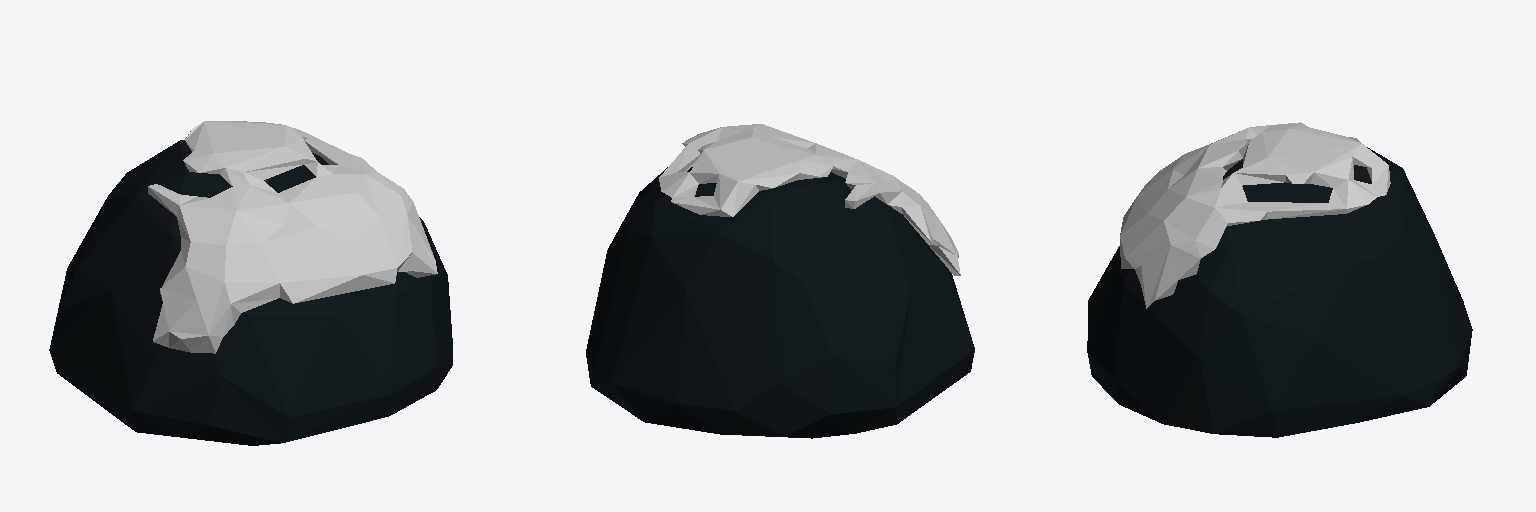
File: Rock_4.obj
3 views of the same model, side by side, from view 1: azimuth 30°, elevation 25°; view 2: azimuth 150°, elevation 25°; view 3: azimuth 270°, elevation 25° (orthographic).
Visible parts, largest first — view 1: Rock_4, Rock_4_snow; view 2: Rock_4, Rock_4_snow; view 3: Rock_4, Rock_4_snow.
Part boxes in pixels (x1,y1,x2,y2): Rock_4: (49,140,452,445); Rock_4_snow: (148,121,437,353); Rock_4: (586,167,974,438); Rock_4_snow: (659,124,960,275); Rock_4: (1087,147,1472,437); Rock_4_snow: (1120,122,1390,308).
Bounding box in the file's own units: 1.62 × 1 × 1.61.